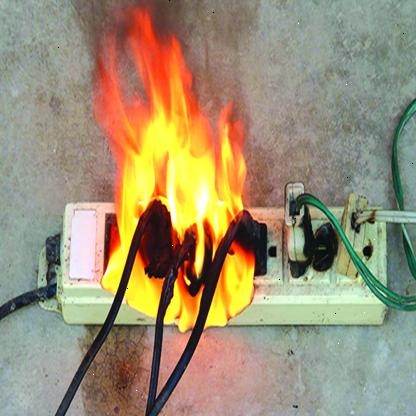fire: (87, 4, 255, 339)
